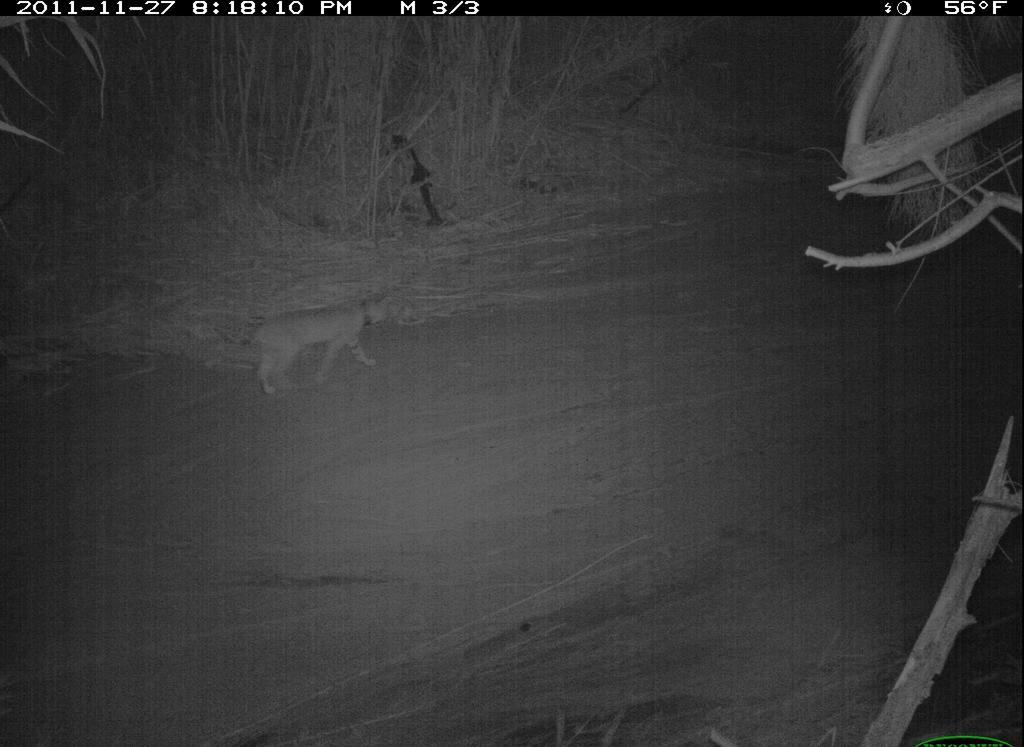bobcat: (239, 287, 399, 399)
